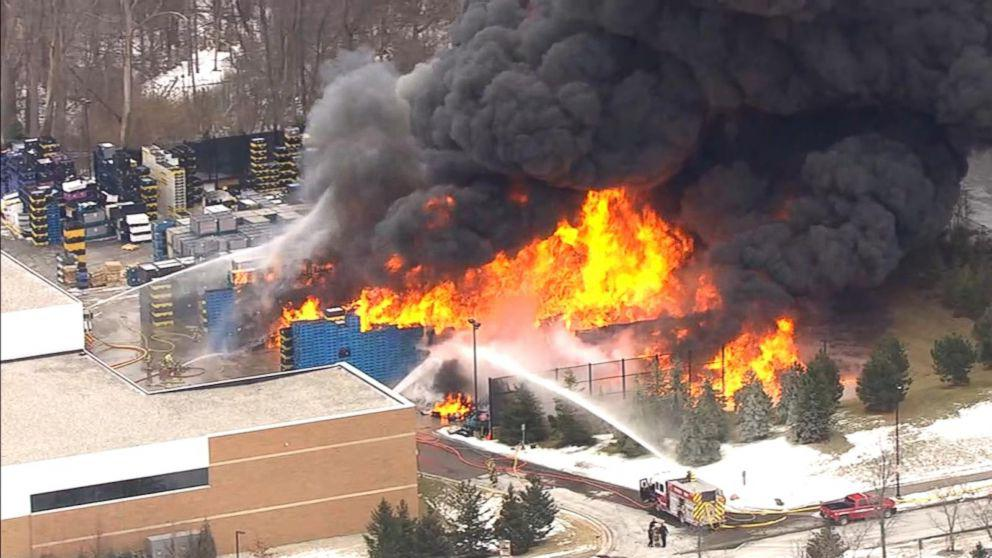fire: (270, 192, 818, 401)
